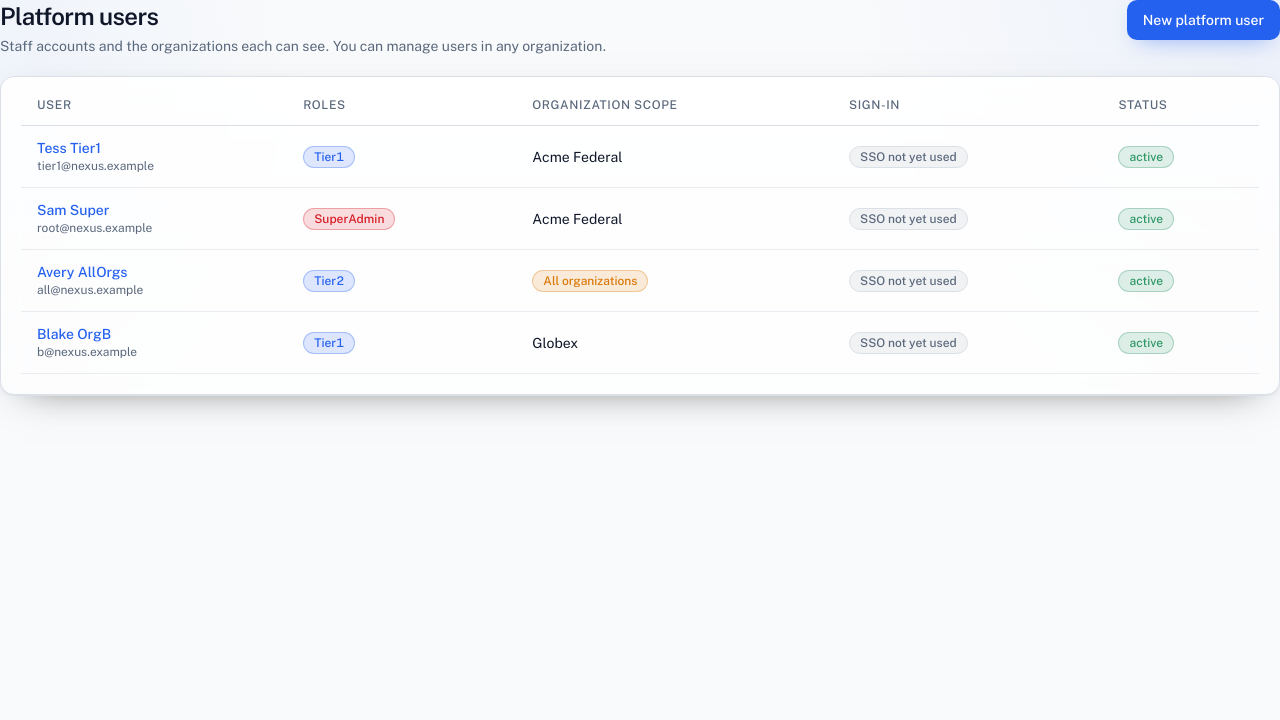
TeamPage for a delegated admin › offers every organization to an all-organizations admin
Check: the text "Tess Tier1" is shown, box [37, 140, 101, 156]
Step 1. Click the button "New platform user" → (1203, 20), box [1127, 0, 1279, 40]
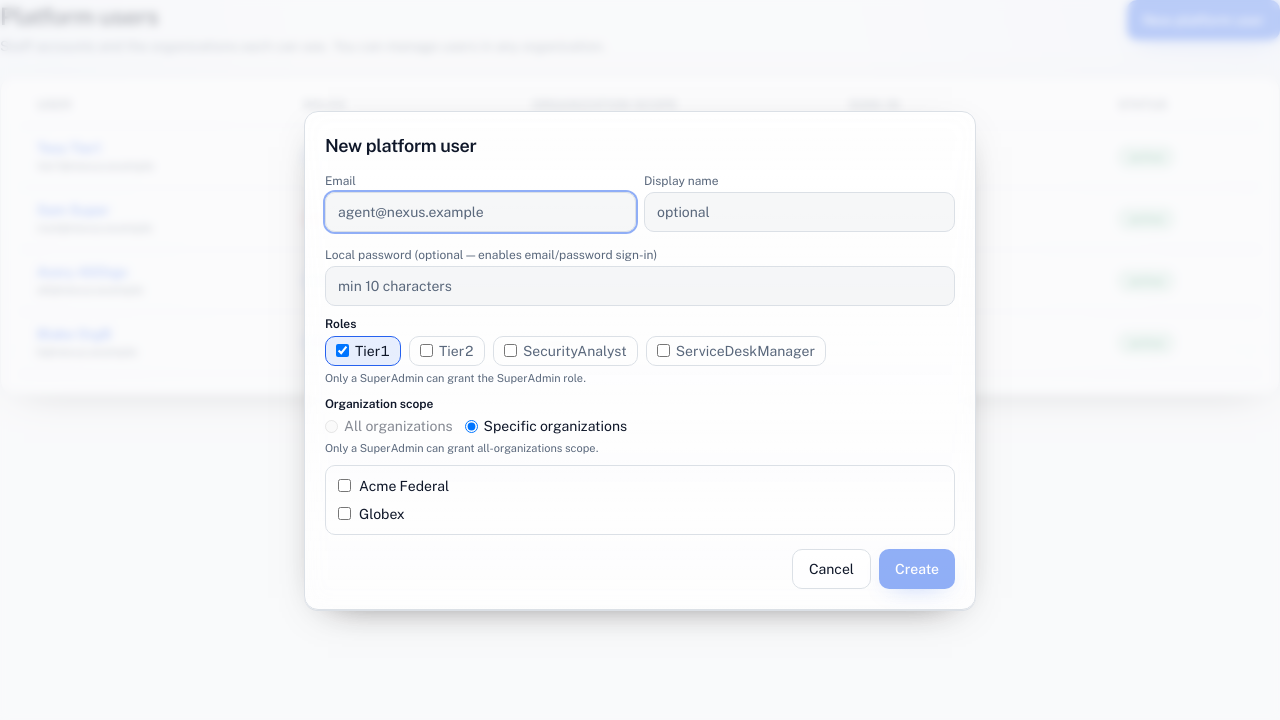
Check: the checkbox labelled "Acme Federal" is shown, box [338, 479, 351, 492]
Check: the checkbox labelled "Globex" is shown, box [338, 507, 351, 520]
